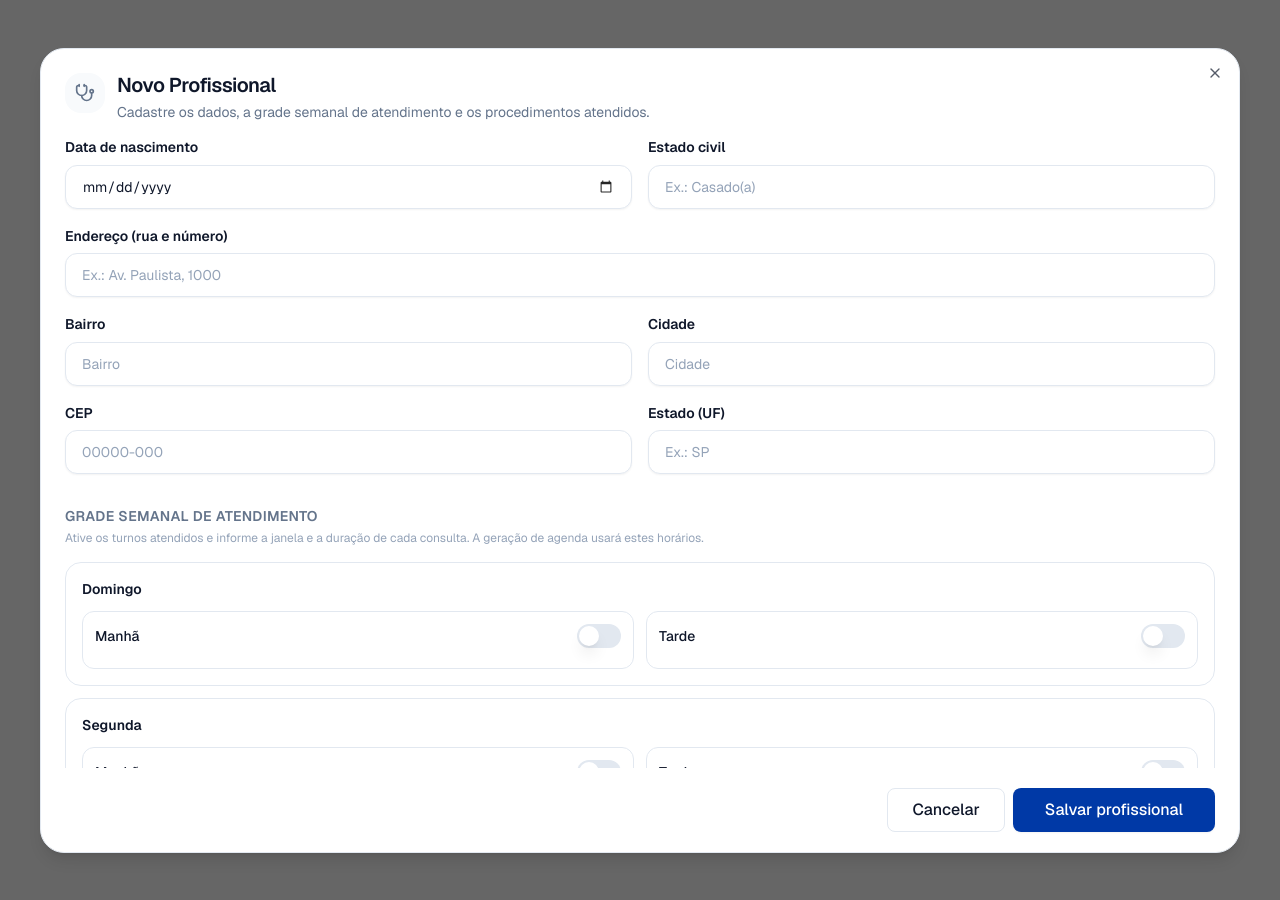
Test case: ProfissionalModal — CEP › preenche logradouro, bairro, cidade e UF ao completar o CEP
This screenshot has width=1280, height=900.
(page scrolled)
Step 1. Type "01310100" into the field with placeholder "00000-000" → [348, 452], box 65,430 -> 632,474
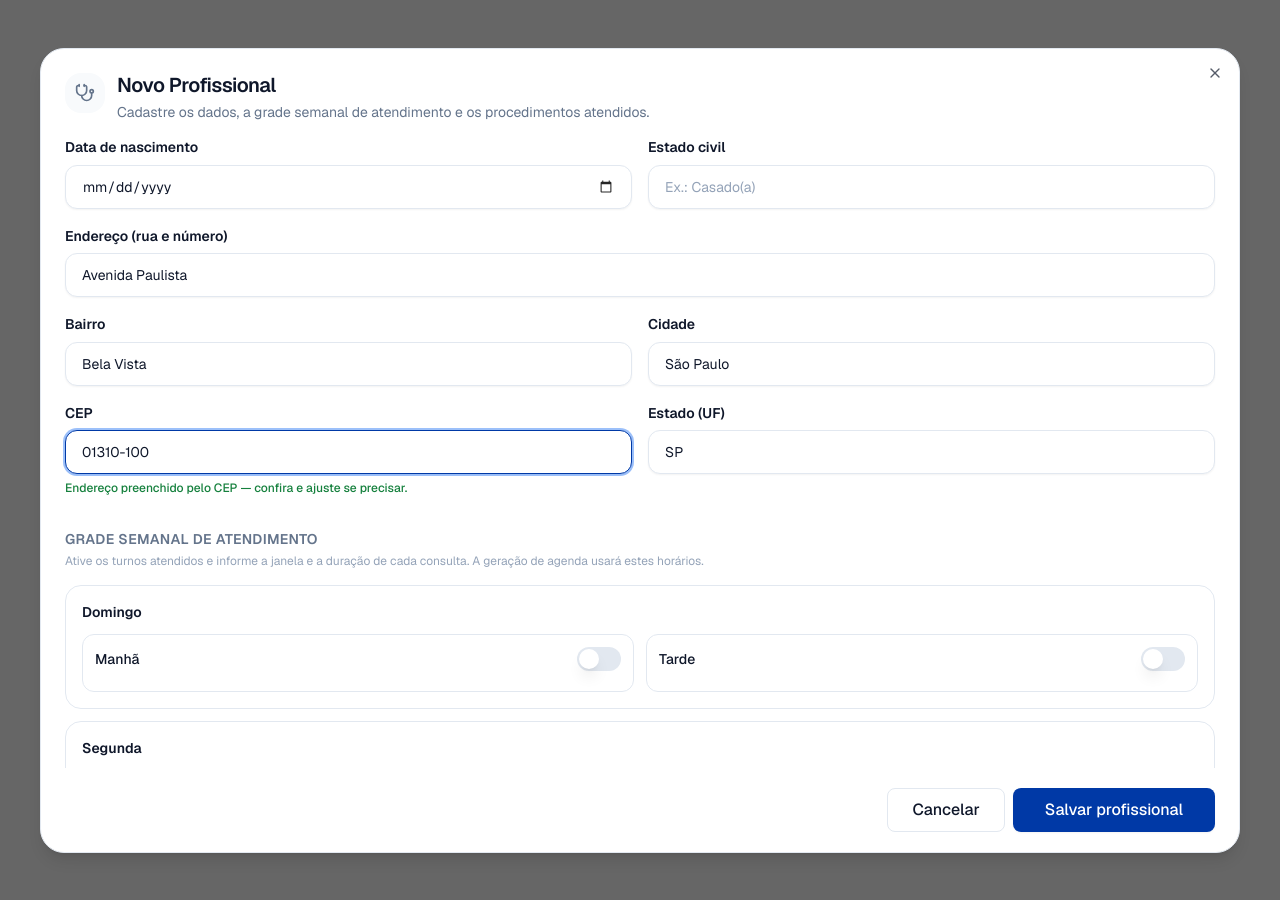
Expected: the 4th field with placeholder "00000-000" holds "01310-100", 65,430 -> 632,474
Expected: the field with placeholder "Bairro" below "Bairro" holds "Bela Vista", 65,342 -> 632,386
Expected: the field with placeholder "Ex.: Av. Paulista, 1000" below "Endereço (rua e número)" holds "Avenida Paulista", 65,253 -> 1215,297
